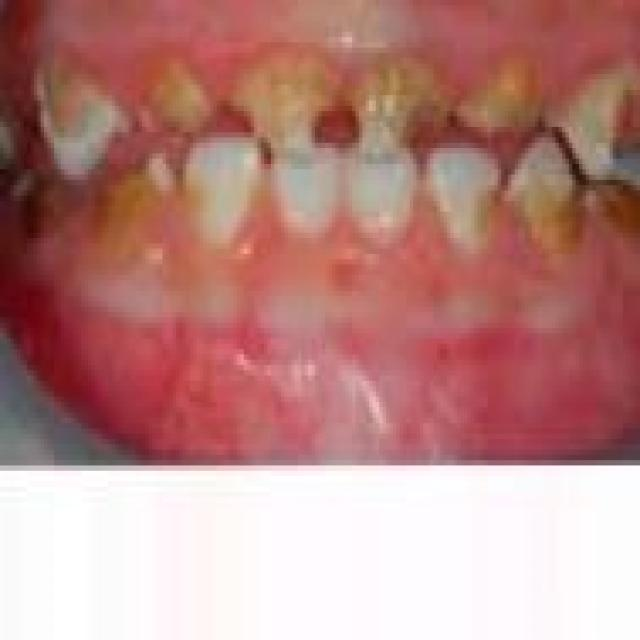caries: (228, 38, 330, 160), (33, 50, 129, 174), (343, 54, 445, 158), (86, 150, 181, 258), (507, 140, 581, 264), (465, 47, 549, 143), (577, 66, 640, 182), (145, 62, 221, 154), (587, 164, 640, 246)
